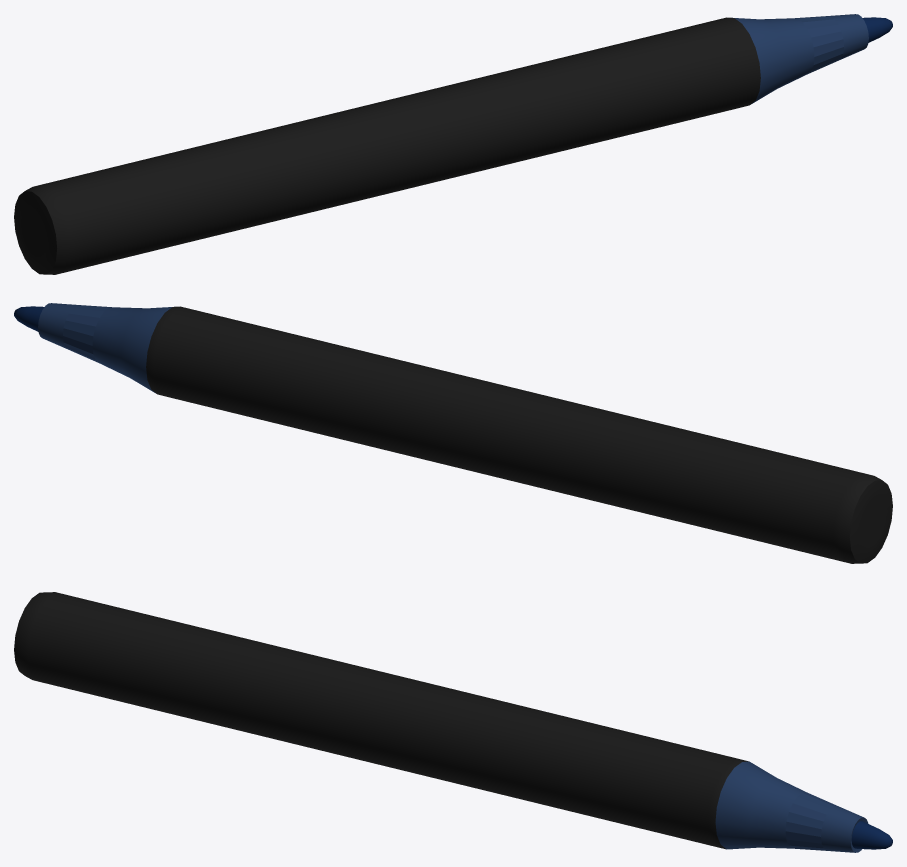
The model's file is stift000.obj.
3 renders of one model, top to bottom at view 1: azimuth 30°, elevation 25°; view 2: azimuth 150°, elevation 25°; view 3: azimuth 330°, elevation 25°, orthographic.
Visible parts, largest first — view 1: Cylinder004; view 2: Cylinder004; view 3: Cylinder004.
Part boxes in pixels (x1=…): Cylinder004: x1=14, y1=14, x2=892, y2=274; Cylinder004: x1=14, y1=303, x2=892, y2=563; Cylinder004: x1=14, y1=592, x2=892, y2=852.
Bounding box in the file's own units: 4.86 × 0.4394 × 0.4462.
